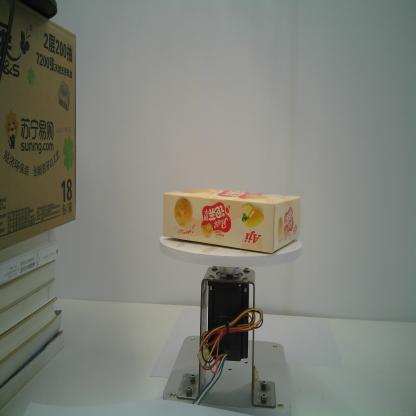Dessert: (162, 188, 300, 253)
